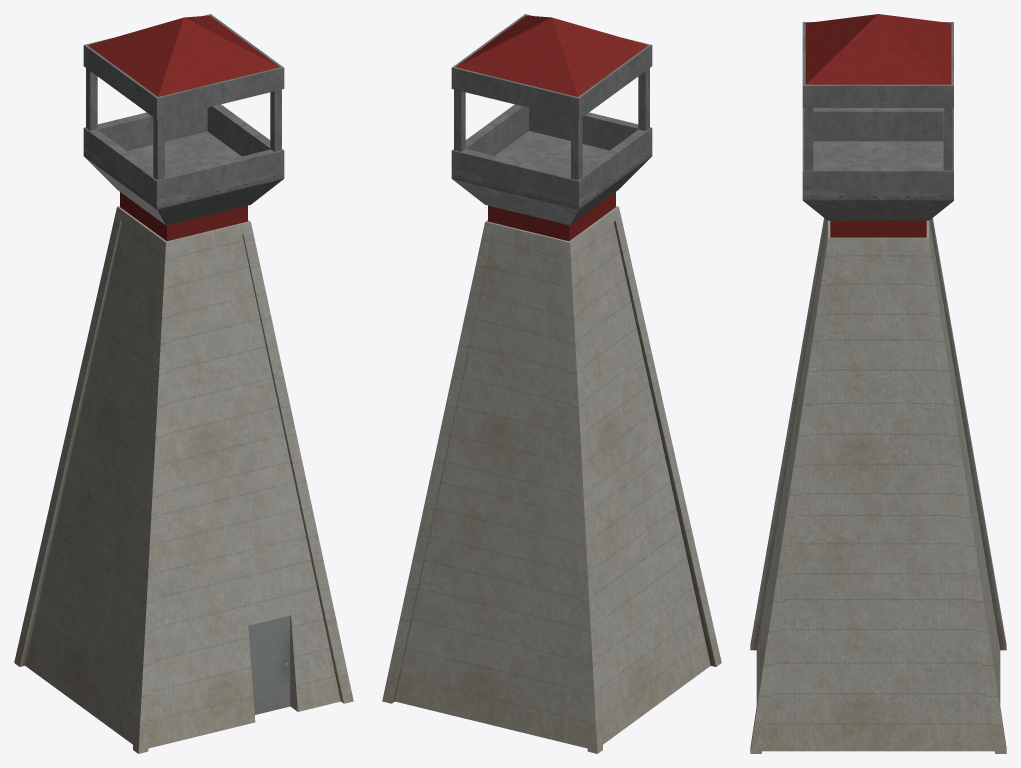
Rendered from TS_NASPOT.obj.
3 views of the same model, side by side, from view 1: azimuth 30°, elevation 25°; view 2: azimuth 150°, elevation 25°; view 3: azimuth 270°, elevation 25° (orthographic). The views are drawn at different scales.
Parts seen in each view (by area): view 1: TS_NASPOT; view 2: TS_NASPOT; view 3: TS_NASPOT.
Boxes of the visible parts, box(x1,y1,x2,y2) form: TS_NASPOT: box(14, 14, 353, 753); TS_NASPOT: box(382, 14, 721, 753); TS_NASPOT: box(750, 14, 1006, 753).
Size of the model in its own units: 6.39 by 18.86 by 6.39.
6 materials, 6 textured.
